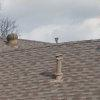Chimney: (50, 49, 74, 94)
